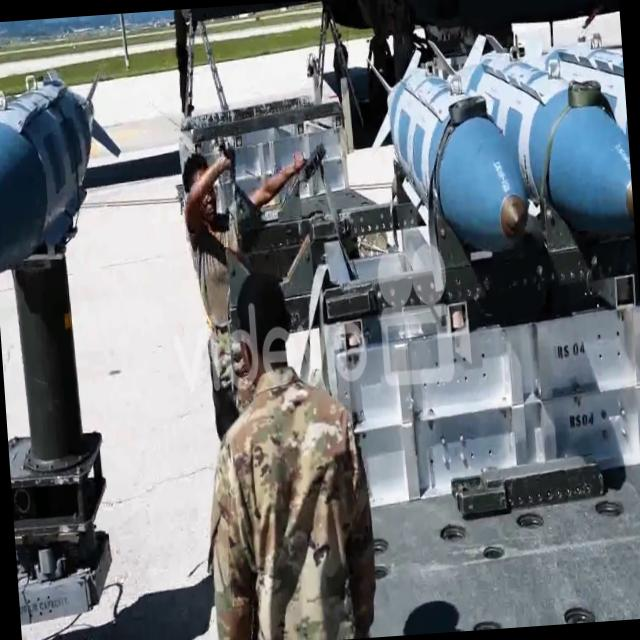rocket: (391, 51, 635, 270)
